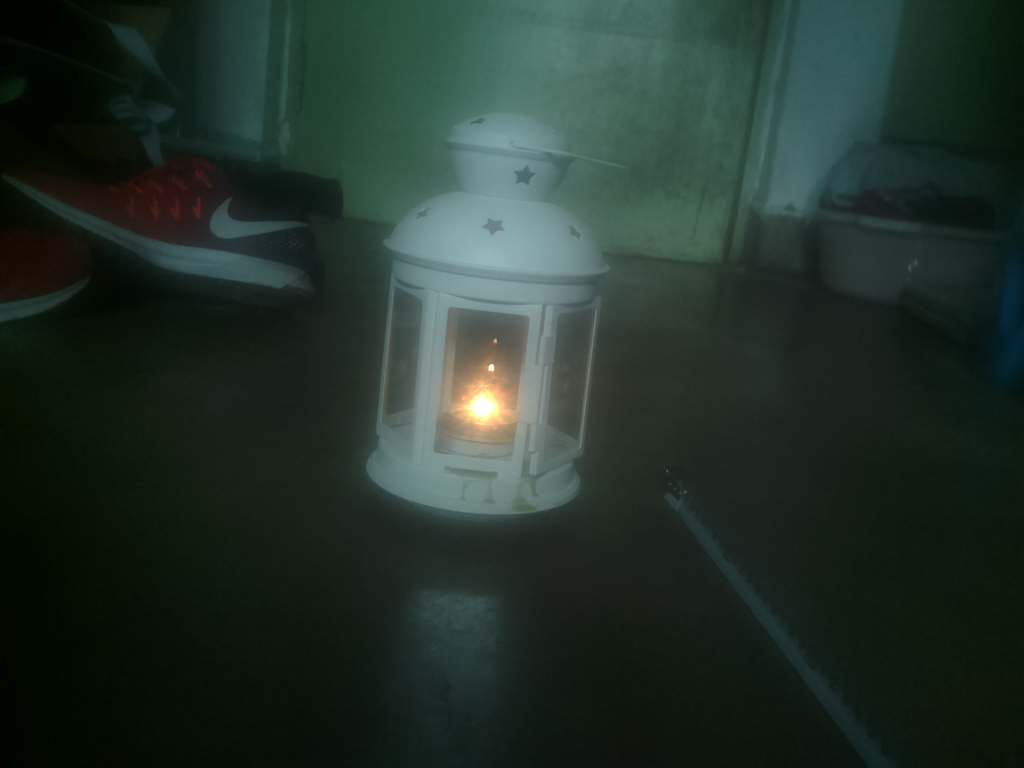fire: (444, 364, 533, 456)
